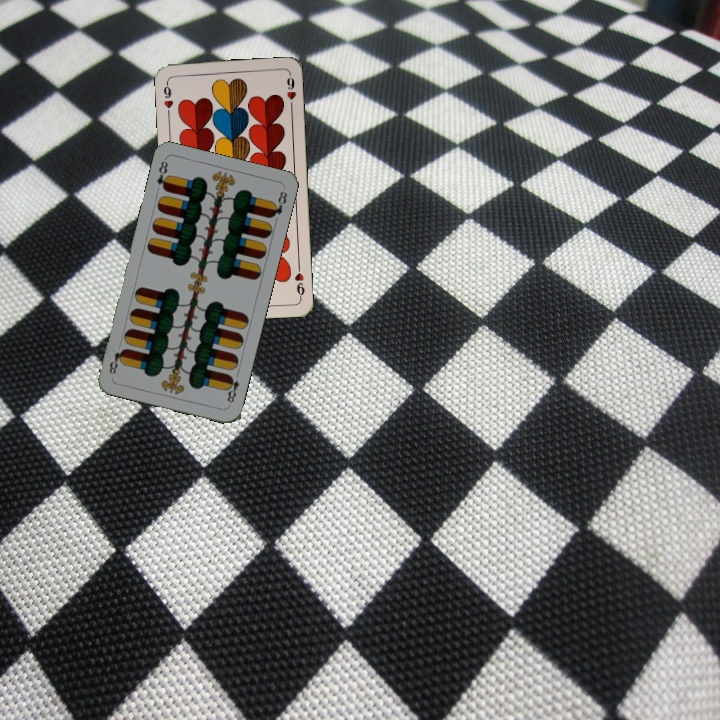E8: (222, 368, 242, 406), (153, 156, 172, 193)
H9: (290, 260, 307, 301), (159, 77, 176, 118)
